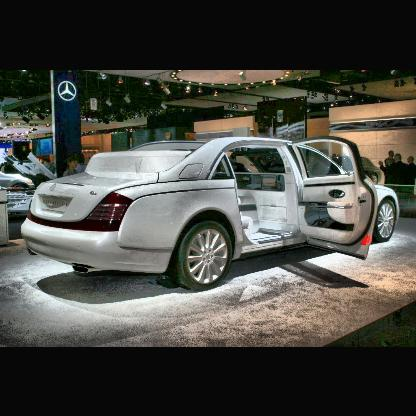Maybach Landaulet Convertible 2012: (21, 136, 400, 294)
